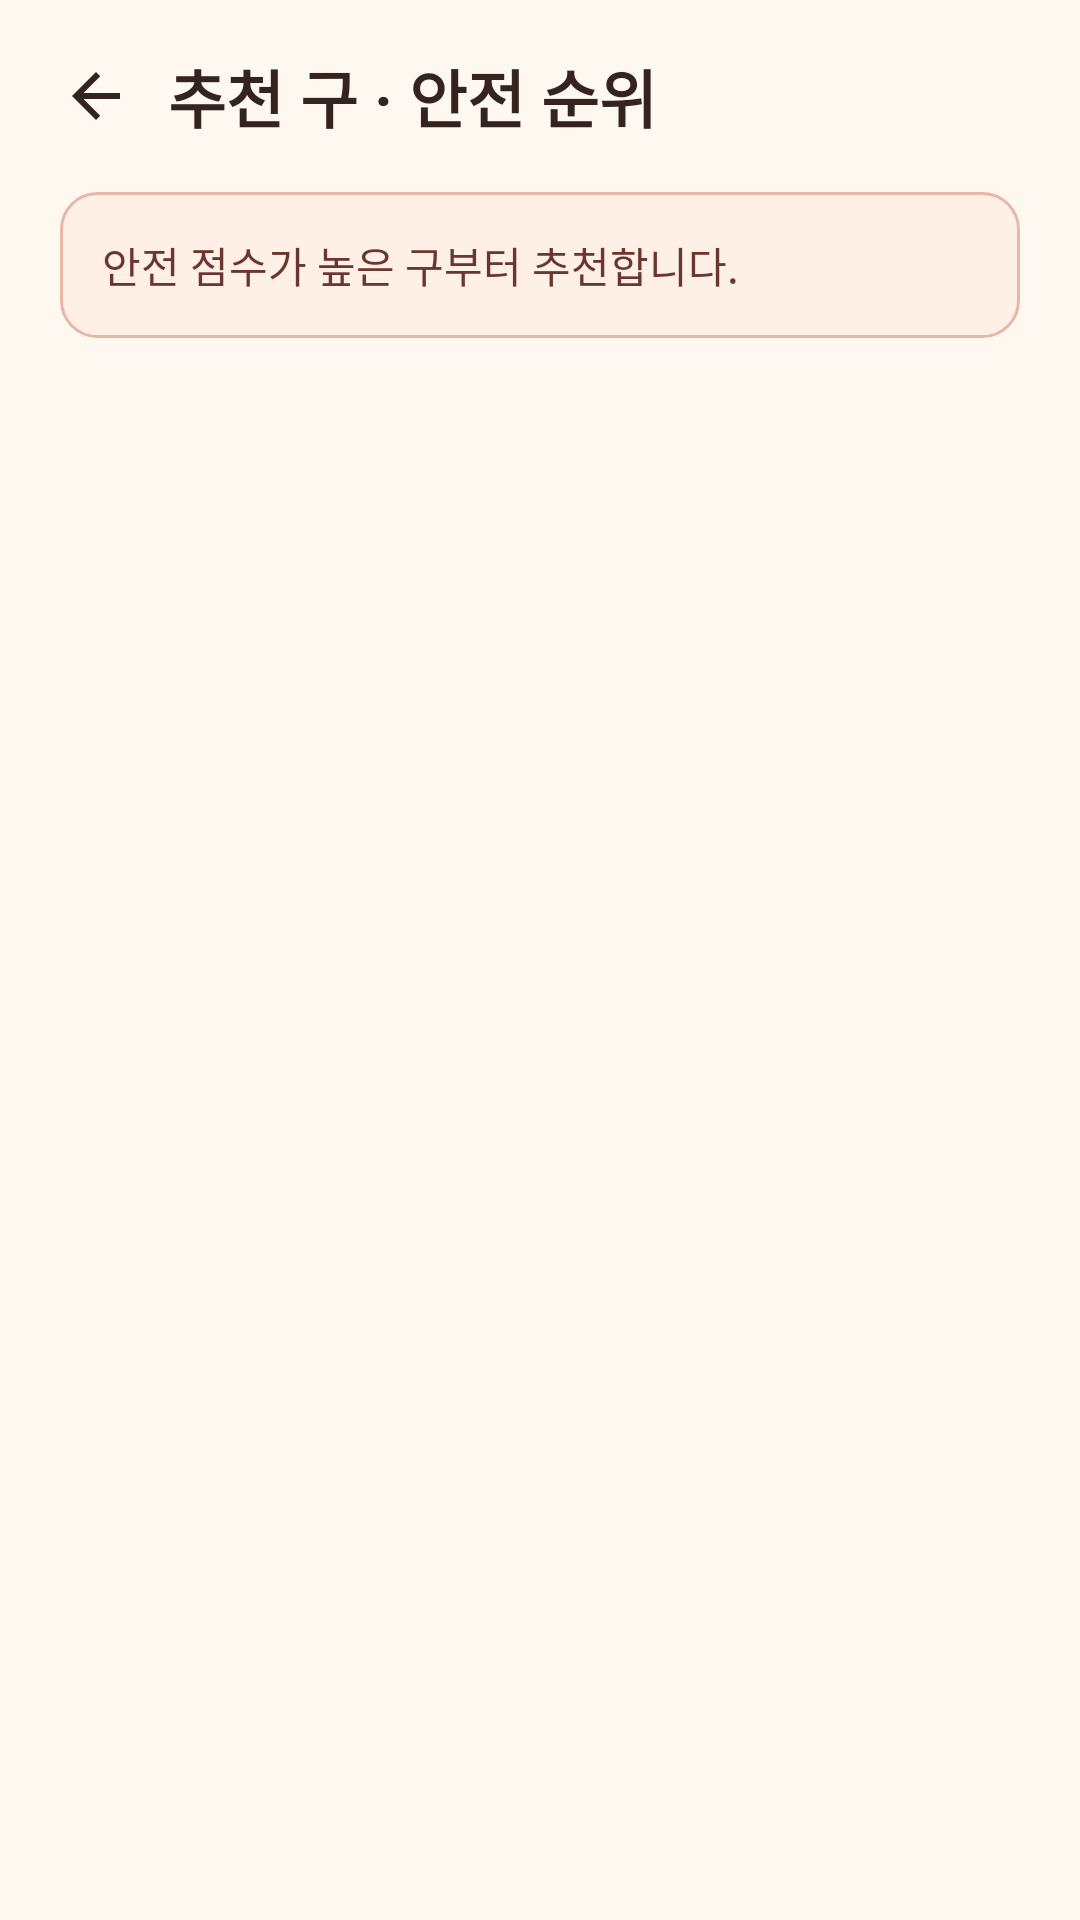

Where icons sit on this 1080px×1920px app screen, as (left=x1, top=y1, right=x2, bottom=y2):
뒤로 가기: (left=72, top=72, right=120, bottom=120)
